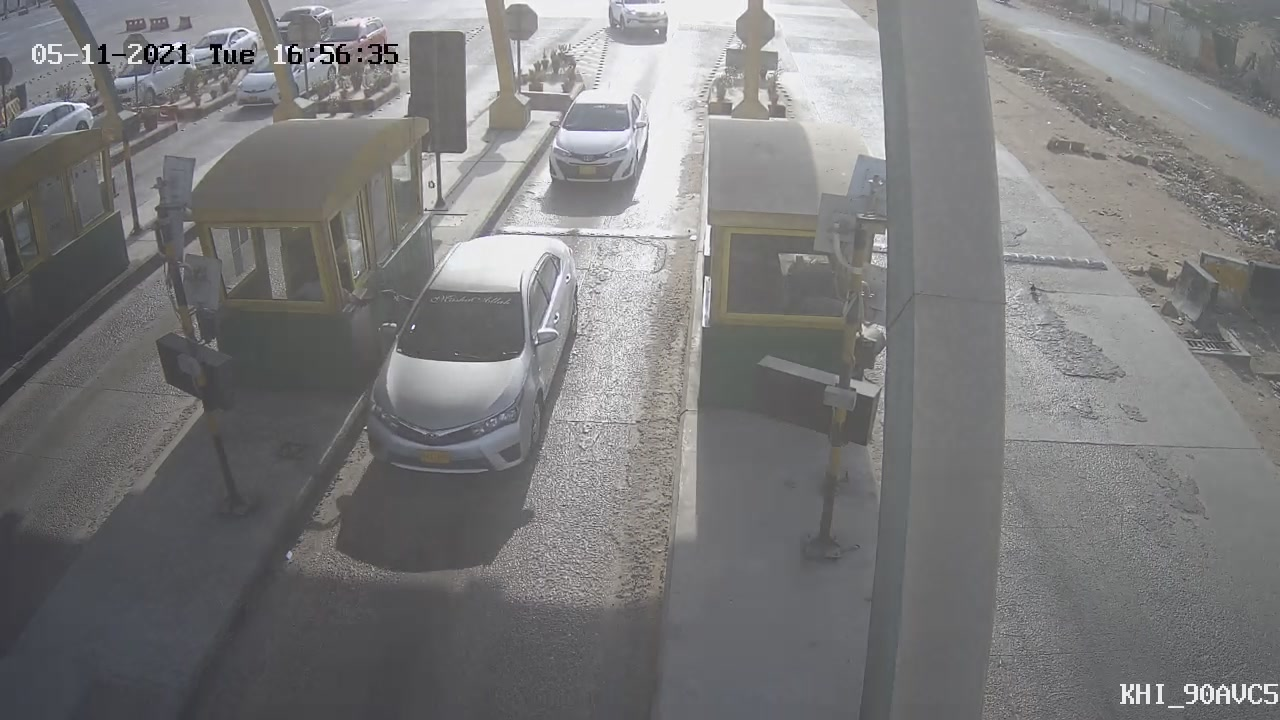F1: (326, 207, 604, 505), (526, 77, 668, 212)
